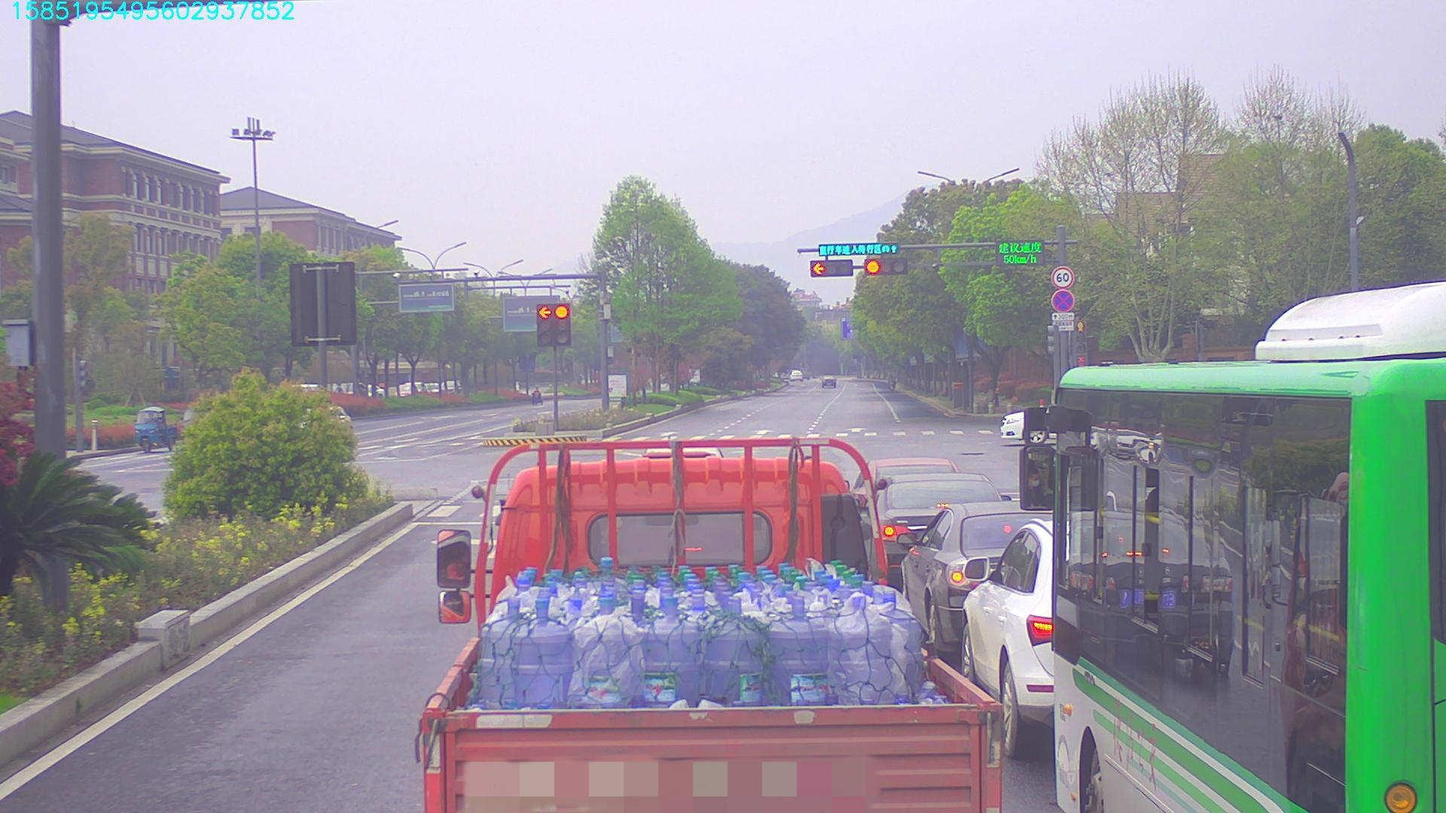red: (862, 261, 905, 275), (813, 261, 846, 275)
wait_on: (819, 239, 904, 254)
